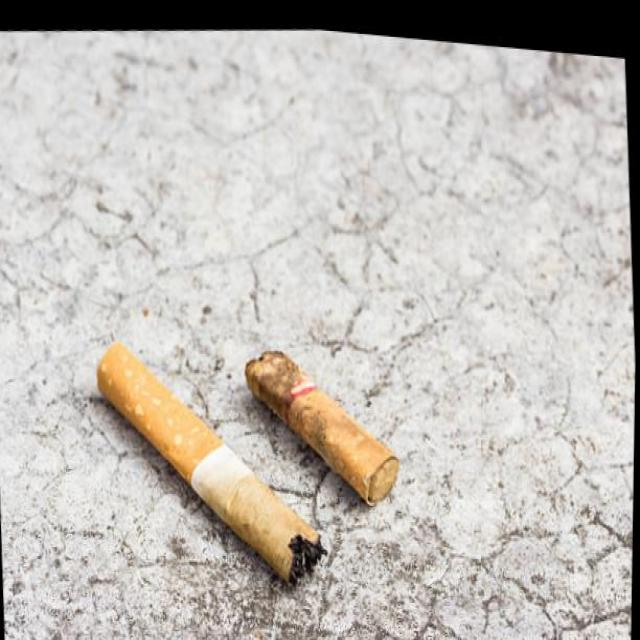cigarette: (94, 314, 332, 608), (243, 328, 404, 516)
